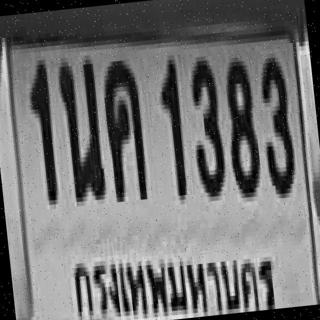A04: (98, 53, 146, 196)
A25: (54, 51, 104, 198)
N01: (24, 56, 58, 202), (154, 53, 187, 194)
N03: (184, 55, 226, 193), (255, 51, 295, 192)
N08: (219, 54, 261, 192)
P04: (63, 223, 280, 320)
